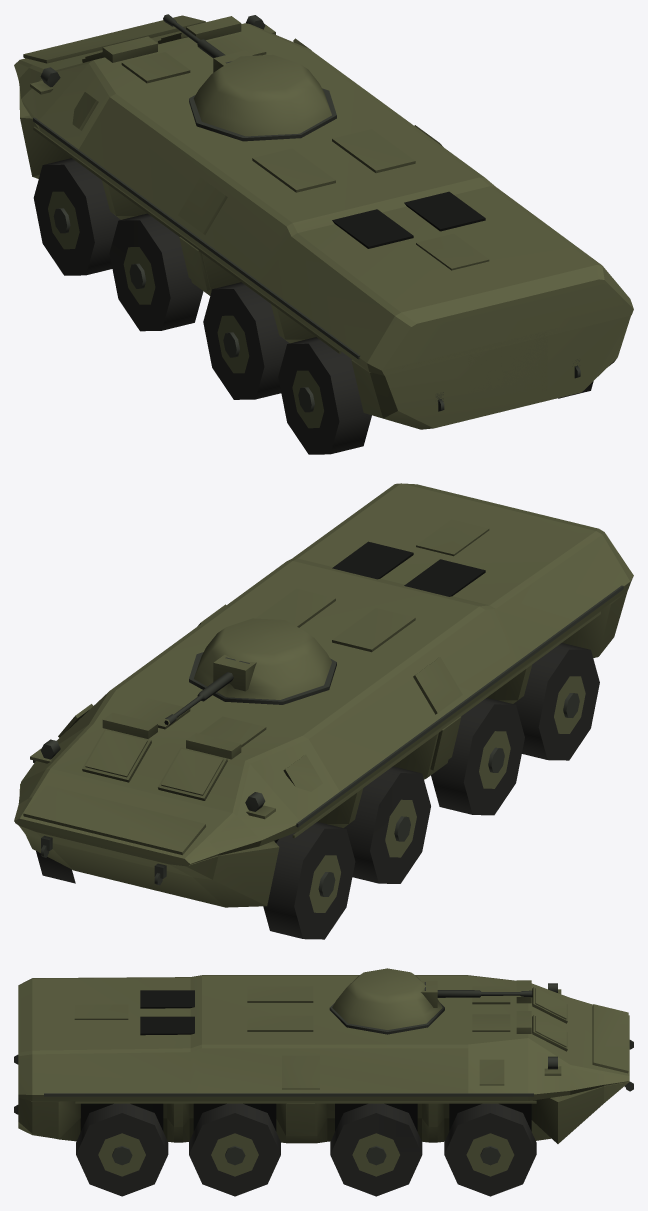
The model's file is btr70_lod2.glb.
The picture shows the model from 3 angles, top to bottom: view 1: azimuth 30°, elevation 25°; view 2: azimuth 150°, elevation 25°; view 3: azimuth 270°, elevation 25°; orthographic projection. The views are drawn at different scales.
Visible parts, largest first — view 1: Hull_BTR70_Paint, LeftTrack_Motion_BTR70_Rubber, TurretYaw_BTR70_Paint, LeftTrack_Motion_BTR70_Paint, Hull_BTR70_DarkSteel, Hull_BTR70_Cavity, LeftTrack_Motion_BTR70_DarkSteel; view 2: Hull_BTR70_Paint, LeftTrack_Motion_BTR70_Rubber, TurretYaw_BTR70_Paint, LeftTrack_Motion_BTR70_Paint, Hull_BTR70_DarkSteel, Hull_BTR70_Cavity, LeftTrack_Motion_BTR70_DarkSteel, BarrelRecoil_BTR70_DarkSteel; view 3: Hull_BTR70_Paint, RightTrack_Motion_BTR70_Rubber, TurretYaw_BTR70_Paint, RightTrack_Motion_BTR70_Paint, Hull_BTR70_Cavity, Hull_BTR70_DarkSteel, RightTrack_Motion_BTR70_DarkSteel, BarrelRecoil_BTR70_DarkSteel.
Boxes of the visible parts, x1,y1,x2,y2 form: Hull_BTR70_Paint: [14, 15, 633, 429]; LeftTrack_Motion_BTR70_Rubber: [33, 158, 371, 454]; TurretYaw_BTR70_Paint: [193, 50, 331, 136]; LeftTrack_Motion_BTR70_Paint: [48, 191, 323, 428]; Hull_BTR70_DarkSteel: [33, 15, 580, 411]; Hull_BTR70_Cavity: [332, 191, 485, 248]; LeftTrack_Motion_BTR70_DarkSteel: [53, 208, 314, 412]; Hull_BTR70_Paint: [14, 483, 633, 907]; LeftTrack_Motion_BTR70_Rubber: [263, 643, 599, 939]; TurretYaw_BTR70_Paint: [194, 618, 331, 699]; LeftTrack_Motion_BTR70_Paint: [309, 676, 585, 912]; Hull_BTR70_DarkSteel: [33, 585, 623, 885]; Hull_BTR70_Cavity: [274, 541, 485, 842]; LeftTrack_Motion_BTR70_DarkSteel: [318, 693, 579, 896]; BarrelRecoil_BTR70_DarkSteel: [165, 672, 233, 725]; Hull_BTR70_Paint: [18, 975, 629, 1143]; RightTrack_Motion_BTR70_Rubber: [76, 1103, 536, 1196]; TurretYaw_BTR70_Paint: [332, 968, 442, 1029]; RightTrack_Motion_BTR70_Paint: [98, 1133, 514, 1176]; Hull_BTR70_Cavity: [81, 990, 531, 1131]; Hull_BTR70_DarkSteel: [14, 983, 633, 1114]; RightTrack_Motion_BTR70_DarkSteel: [112, 1145, 500, 1165]; BarrelRecoil_BTR70_DarkSteel: [437, 990, 532, 997].
Size of the model in its own units: 2.83 by 2.24 by 7.53.
